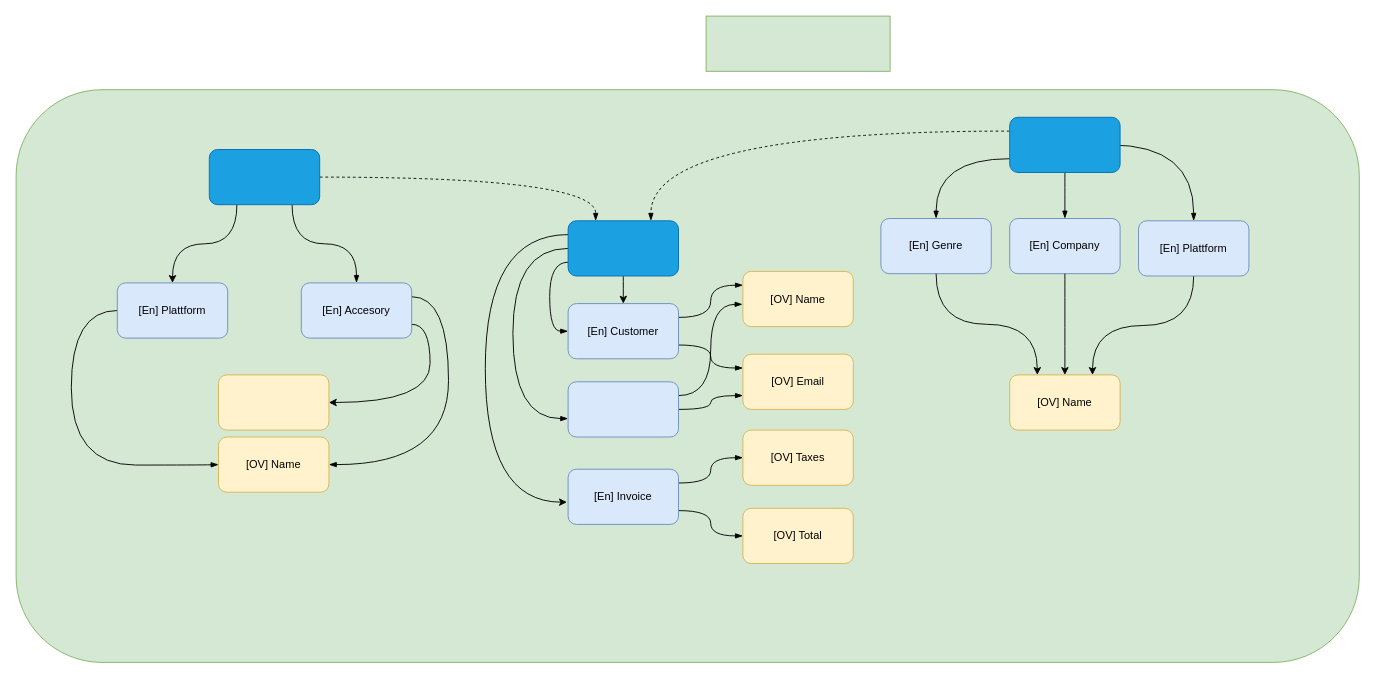
This 1375x679 diagram has some shape labels left out. Each missing label, with the centre of its shape:
[AR] Console: the point at 264,177
[AR] Sale: the point at 622,248
[AR] VideoGame: the point at 1064,144
[En] Salesman: the point at 622,409
[OV] Type: the point at 273,402
Customer Service And Sales Support: the point at 797,43
